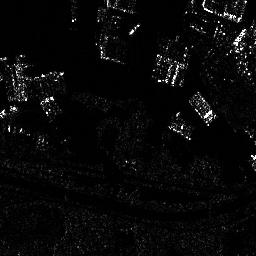ship: (129, 23, 142, 35)
